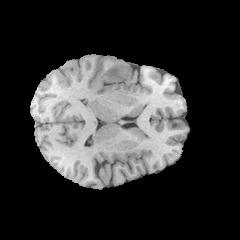glioma: (88, 63, 130, 116)
